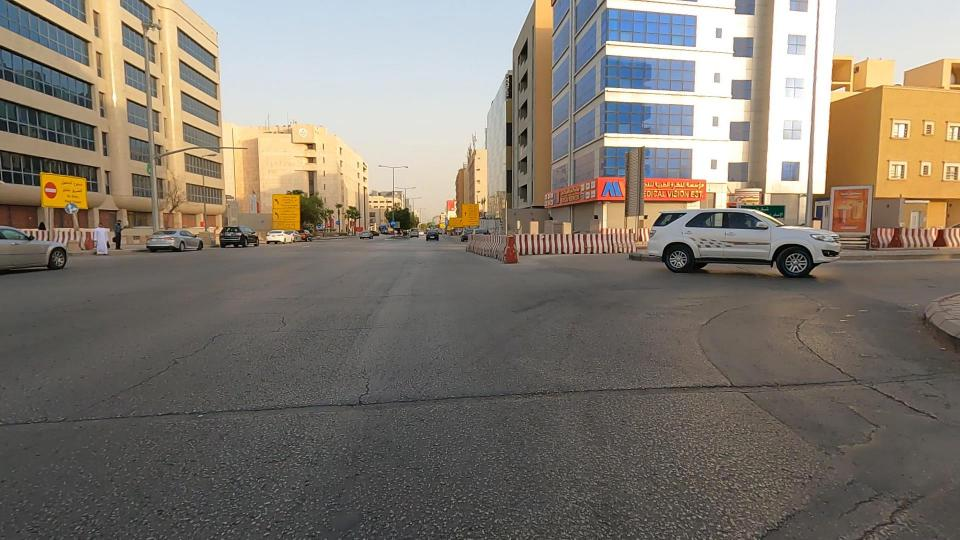CONSTRUCTION_ROAD: (412, 189, 607, 302)
POTHOLES: (618, 304, 960, 477), (0, 366, 365, 454), (428, 343, 782, 426), (244, 361, 554, 428)
